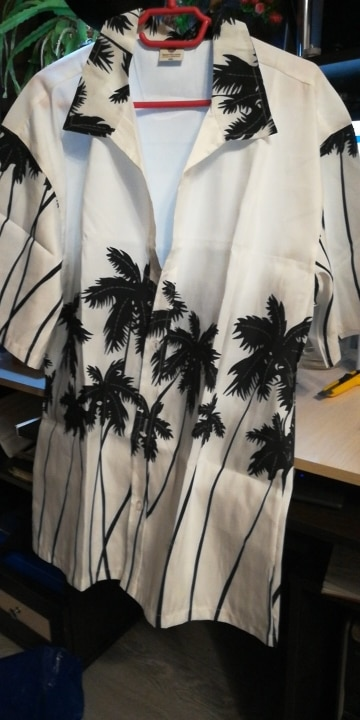shirts: (4, 8, 360, 643)
